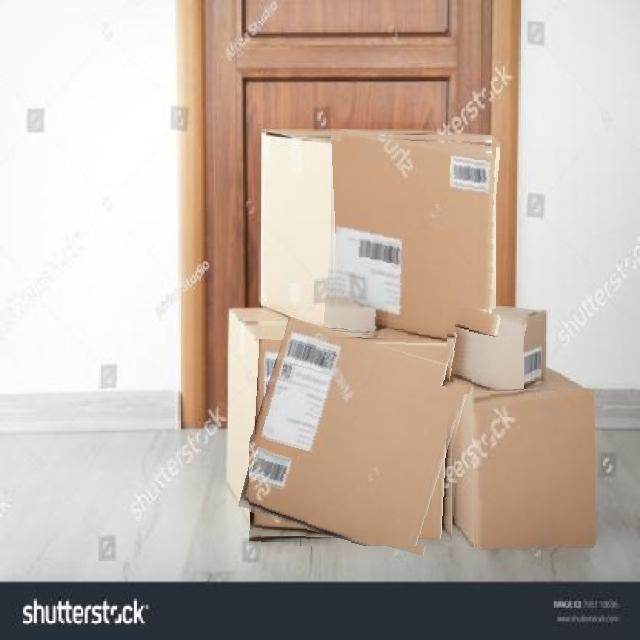BoxFace: (249, 328, 463, 546), (327, 132, 496, 339), (473, 389, 595, 549), (445, 308, 524, 394)
